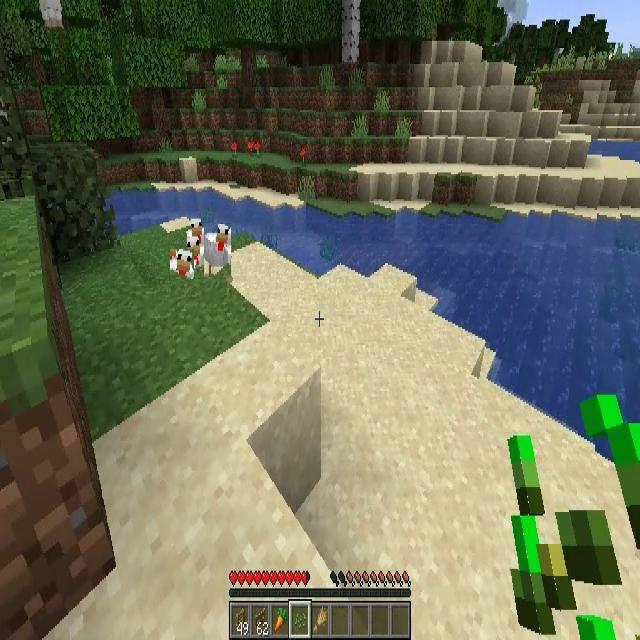duck: (204, 223, 231, 277), (185, 223, 204, 268), (170, 249, 194, 280), (188, 219, 205, 251)
